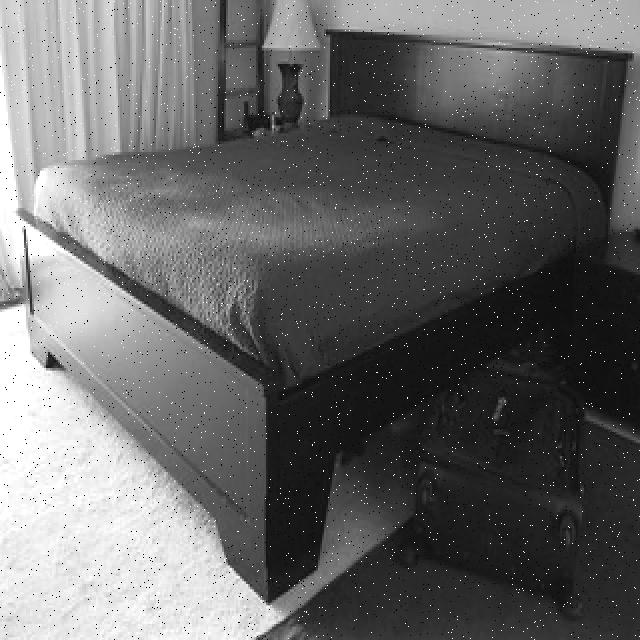bed: (26, 109, 626, 387)
